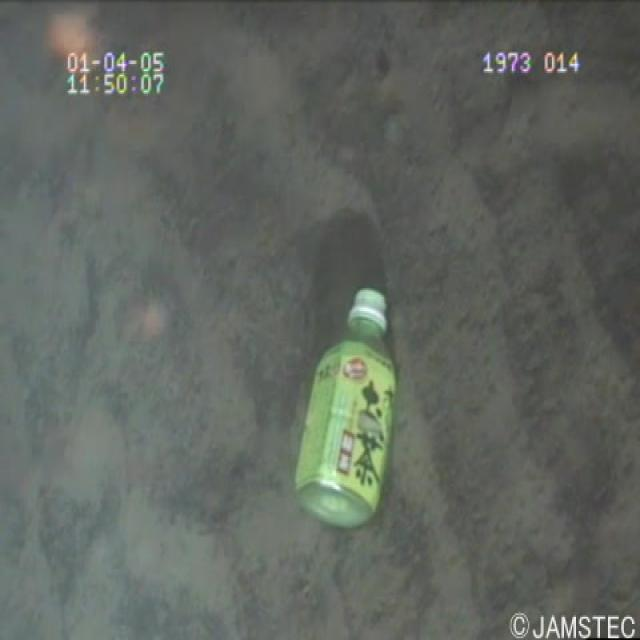plastic: (278, 281, 418, 544)
